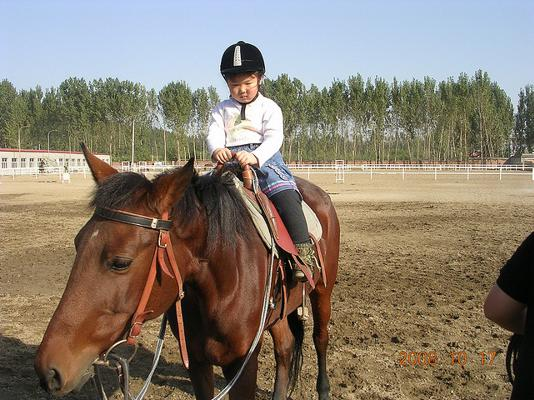person: (208, 42, 317, 279)
